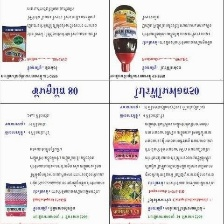insecticide: (110, 2, 141, 73), (107, 169, 144, 220), (0, 23, 29, 63), (111, 126, 140, 165), (1, 180, 28, 219)
